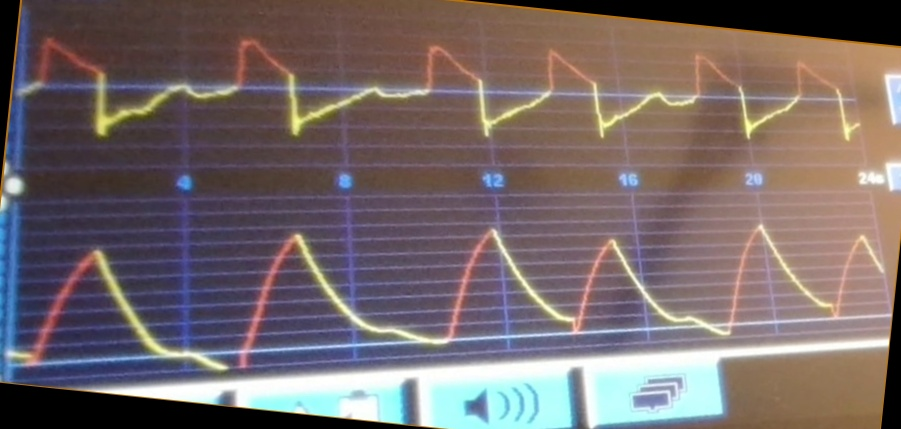Ineffective_effort Flow: (27, 34, 856, 143)
Ineffective_effort Volume: (17, 220, 883, 370)
